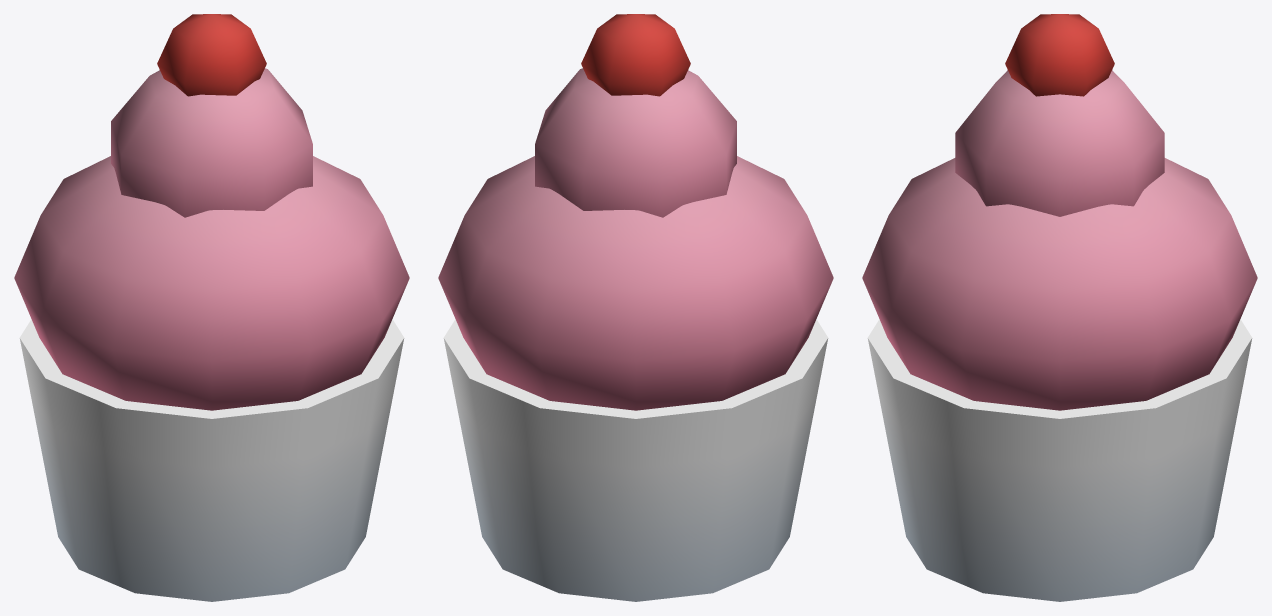
Rendered from ck_cupcake.fbx.
3 renders of one model, left to right at view 1: azimuth 30°, elevation 25°; view 2: azimuth 150°, elevation 25°; view 3: azimuth 270°, elevation 25°, orthographic.
Visible parts, largest first — view 1: ck_cupcake; view 2: ck_cupcake; view 3: ck_cupcake.
Part boxes in pixels (x1,y1,x2,y2): ck_cupcake: [14, 14, 409, 601]; ck_cupcake: [438, 14, 833, 601]; ck_cupcake: [862, 14, 1257, 601].
Size of the model in its own units: 20.57 by 30 by 20.57.
